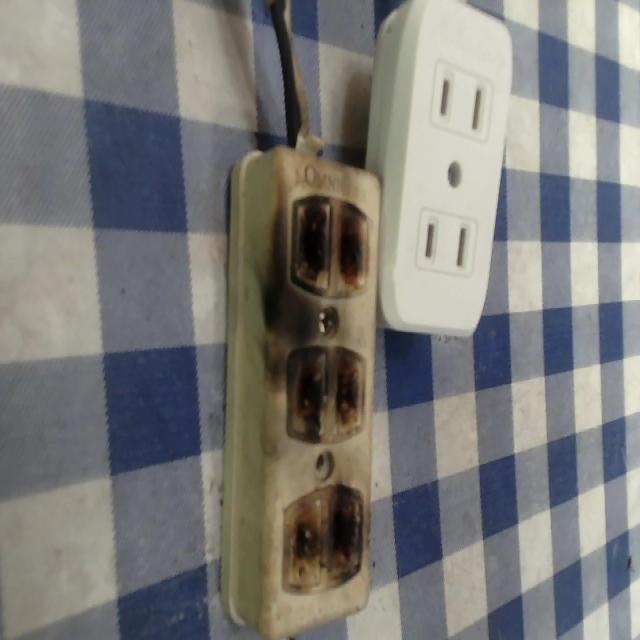-: (286, 184, 371, 299), (280, 481, 361, 591), (285, 343, 366, 440)
